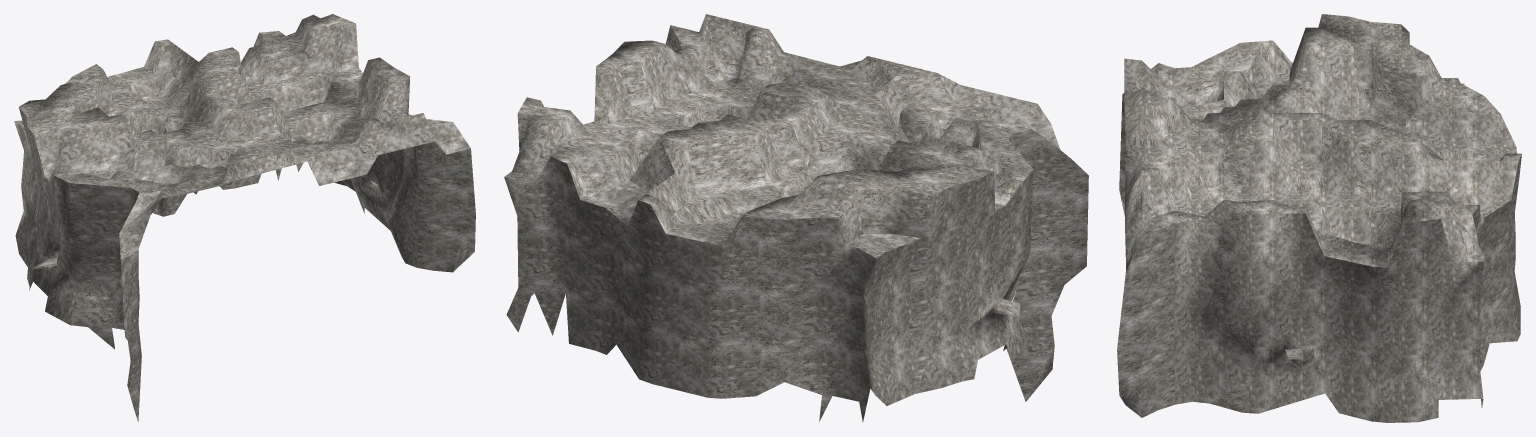
Rendered from DWARF_PALACE_FORGE_CAVEB.fbx.
The picture shows the model from 3 angles, left to right: view 1: azimuth 30°, elevation 25°; view 2: azimuth 150°, elevation 25°; view 3: azimuth 270°, elevation 25°; orthographic projection. The views are drawn at different scales.
Visible parts, largest first — view 1: DWARF_PALACE_FORGE_CAVEB; view 2: DWARF_PALACE_FORGE_CAVEB; view 3: DWARF_PALACE_FORGE_CAVEB.
Boxes of the visible parts, <box> form: DWARF_PALACE_FORGE_CAVEB: <box>14,14,475,421</box>; DWARF_PALACE_FORGE_CAVEB: <box>504,14,1088,422</box>; DWARF_PALACE_FORGE_CAVEB: <box>1117,14,1521,422</box>.
Bounding box in the file's own units: 752665 × 486293 × 592782.
1 material, 1 textured.
